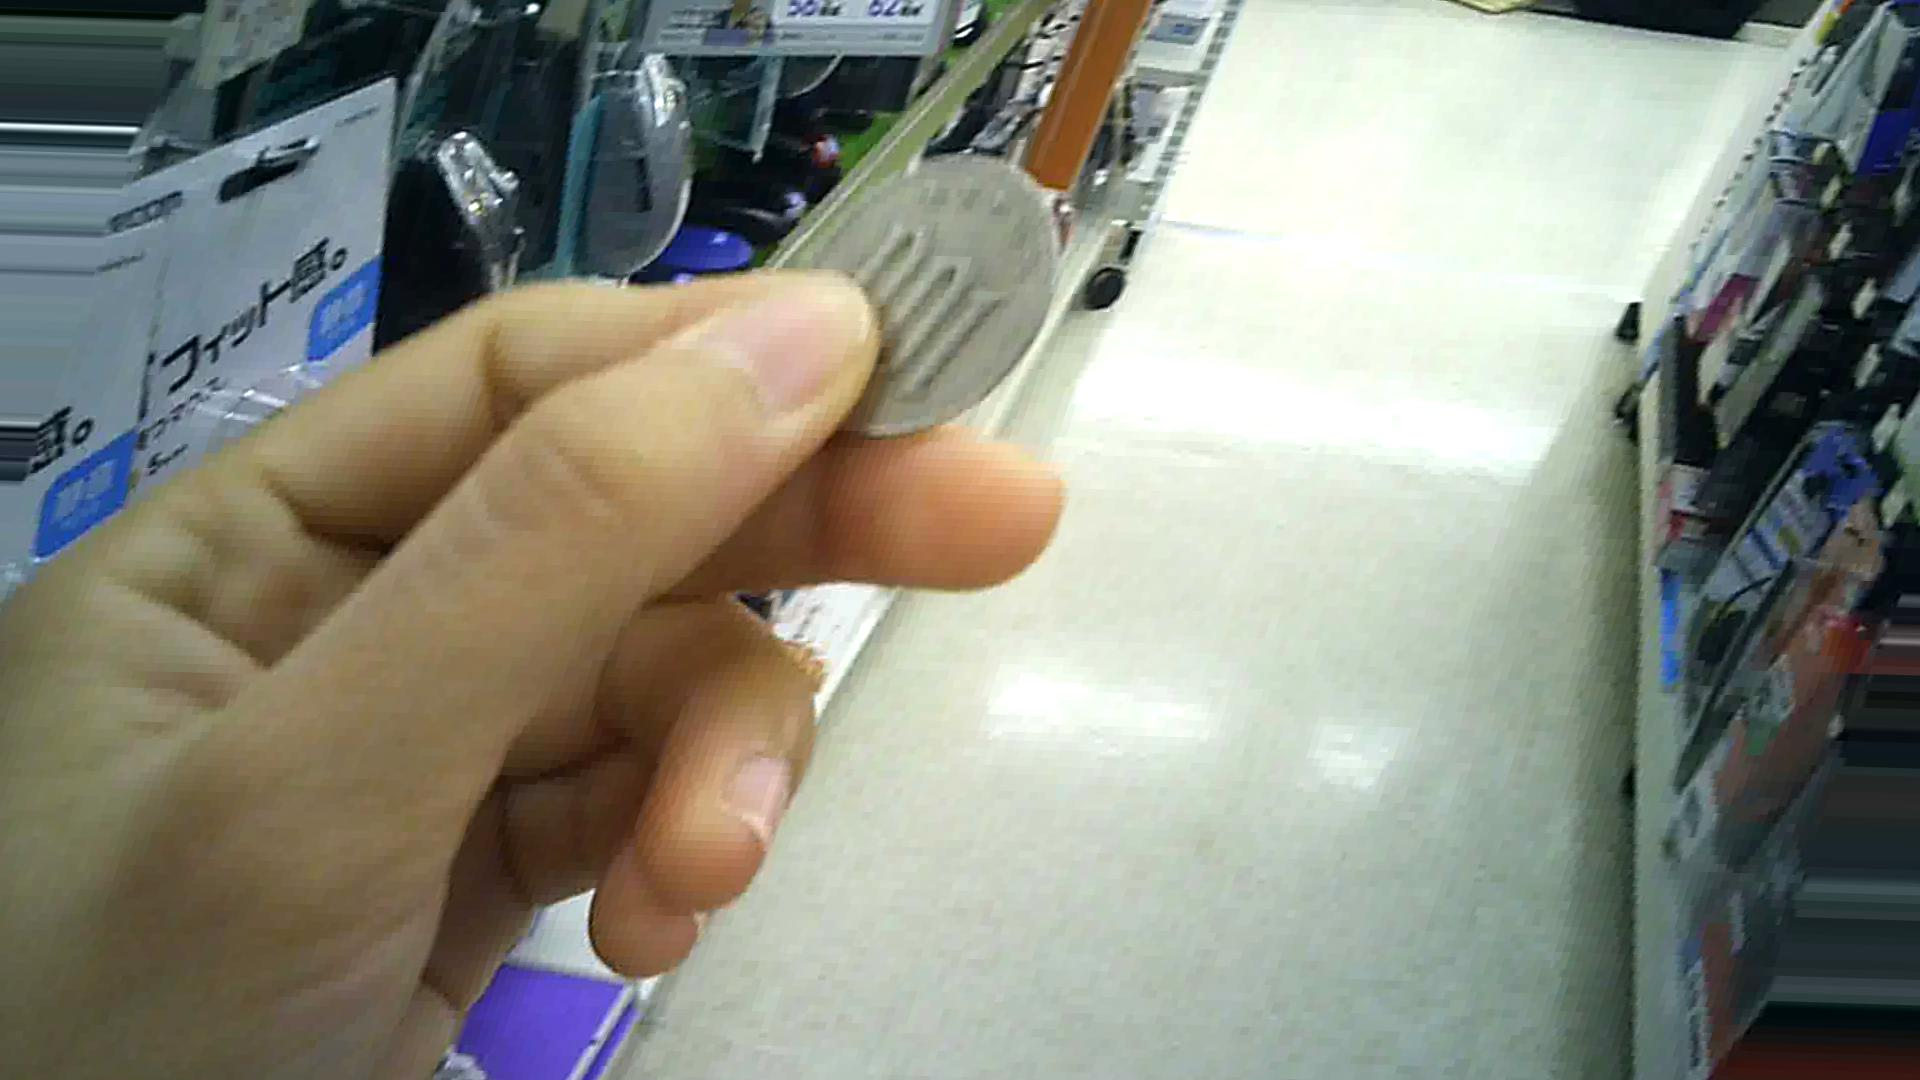100 Yen: (787, 127, 1067, 442)
